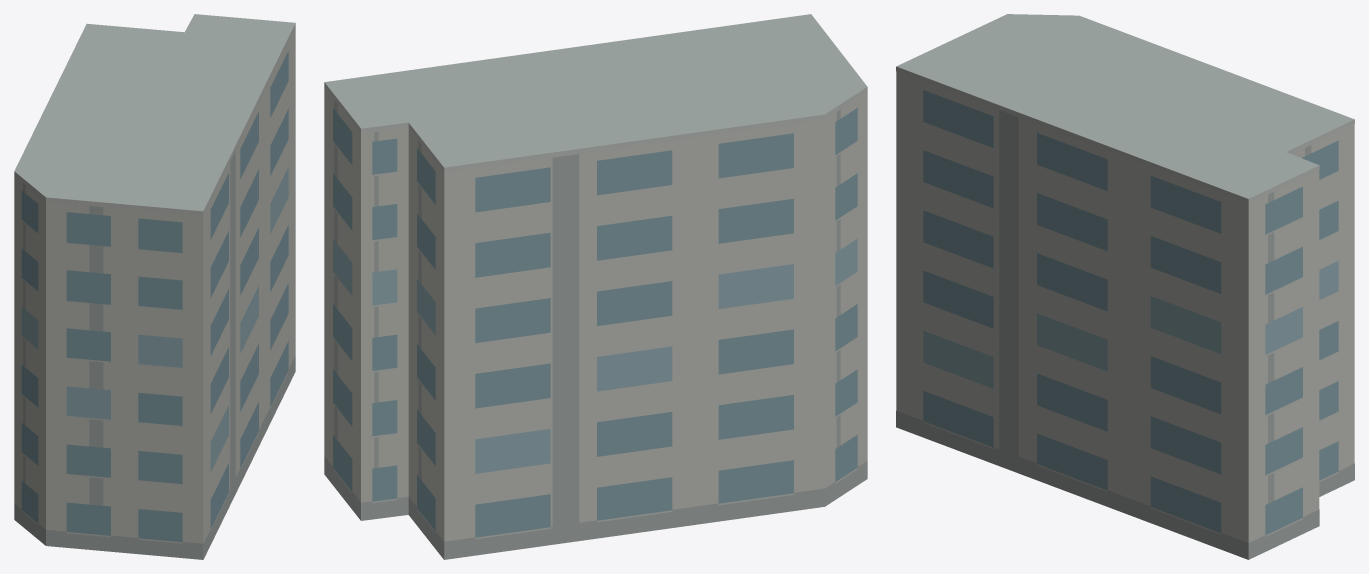
Rendered from survey-upis-32495051.glb.
3 views of the same model, side by side, from view 1: azimuth 30°, elevation 25°; view 2: azimuth 150°, elevation 25°; view 3: azimuth 270°, elevation 25° (orthographic). The views are drawn at different scales.
Parts seen in each view (by area): view 1: survey-upis-32495051.tmp; view 2: survey-upis-32495051.tmp; view 3: survey-upis-32495051.tmp.
Boxes of the visible parts, <box> form: survey-upis-32495051.tmp: <box>14,14,295,559</box>; survey-upis-32495051.tmp: <box>324,14,867,559</box>; survey-upis-32495051.tmp: <box>896,14,1354,559</box>.
Size of the model in its own units: 20.29 by 18.45 by 21.25.
